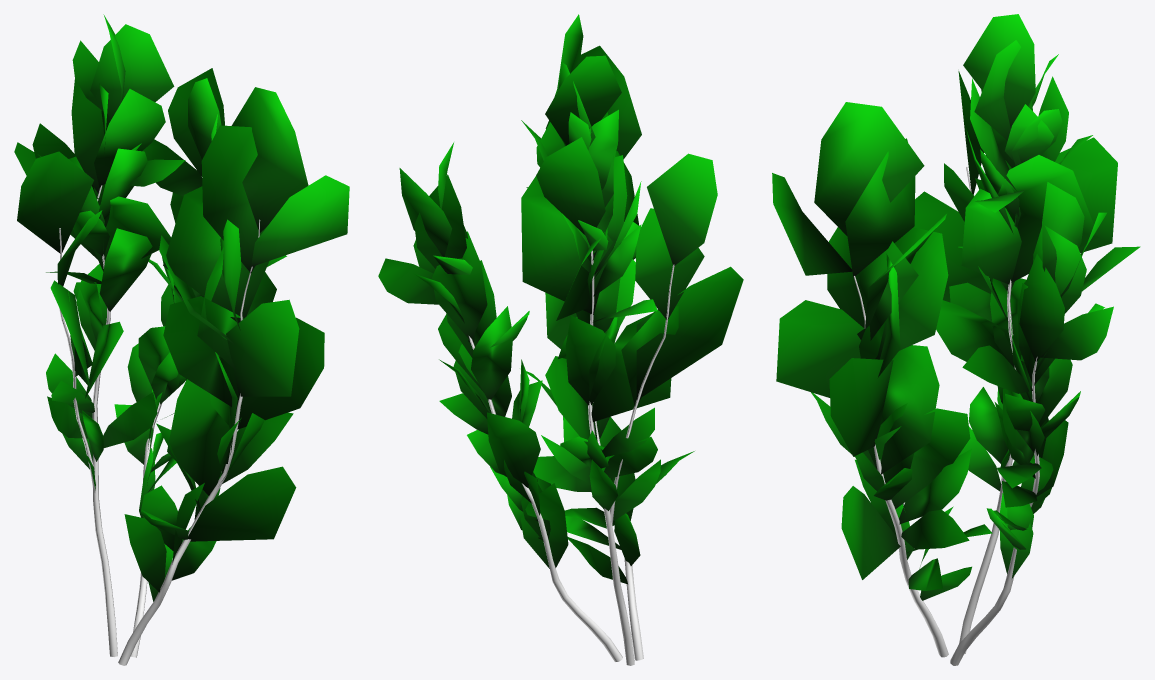
The model's file is Oak_Small_4.fbx.
3 views of the same model, side by side, from view 1: azimuth 30°, elevation 25°; view 2: azimuth 150°, elevation 25°; view 3: azimuth 270°, elevation 25° (orthographic). The views are drawn at different scales.
Visible parts, largest first — view 1: Oak_Small_4; view 2: Oak_Small_4; view 3: Oak_Small_4.
Boxes of the visible parts, <box> form: Oak_Small_4: <box>14,14,349,665</box>; Oak_Small_4: <box>378,14,743,665</box>; Oak_Small_4: <box>772,14,1140,665</box>.
Size of the model in its own units: 5.44 by 11.92 by 6.12.
